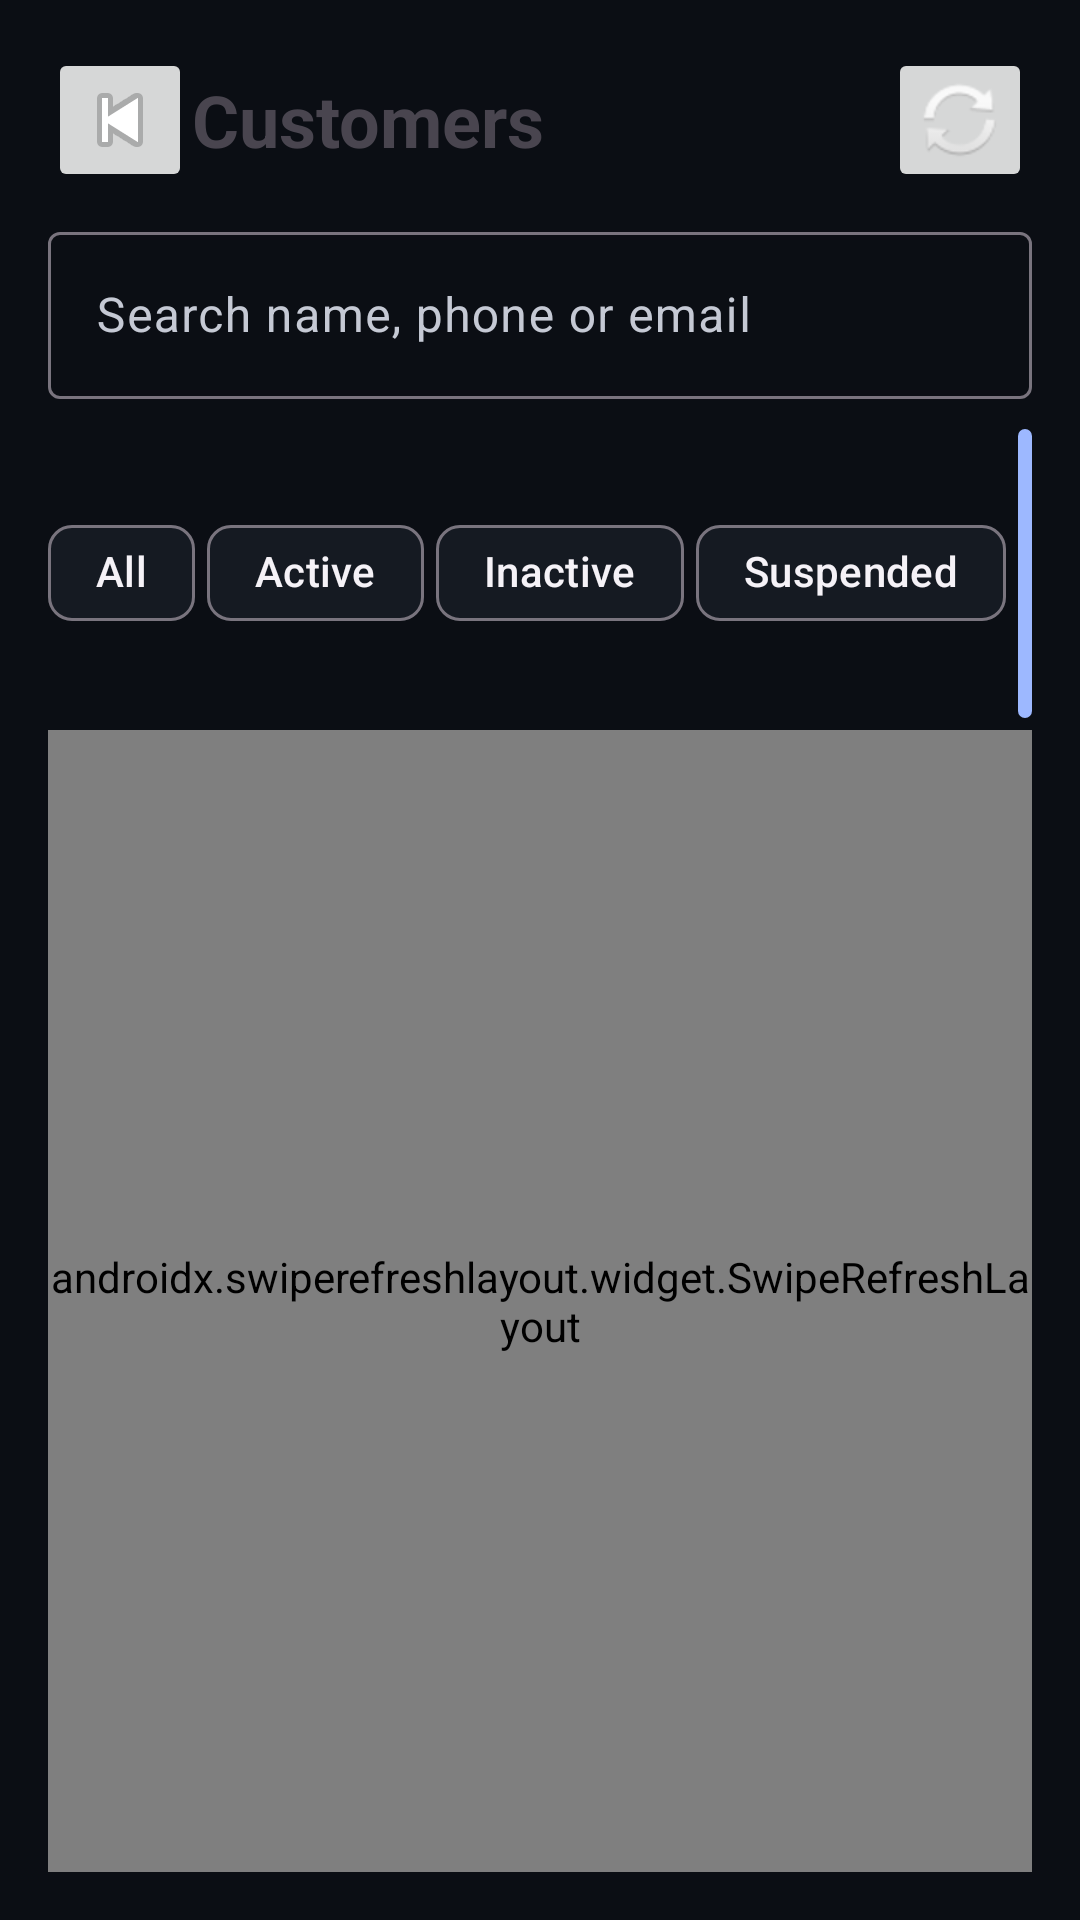

Point at icon controls on the screen. Image size 1080px x 1920px, points as (x,y).
Back: (120,120)
Refresh: (960,120)
